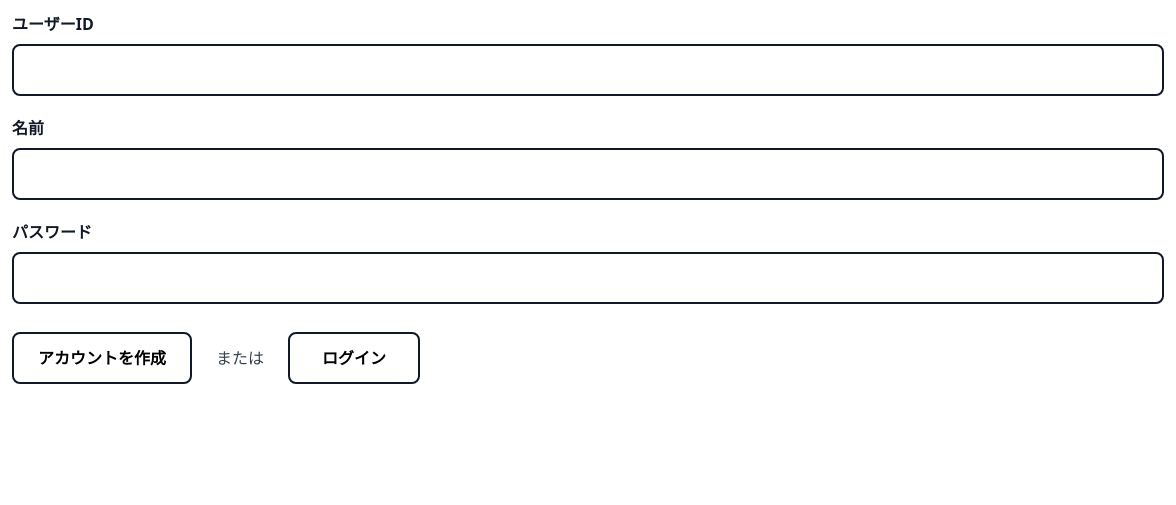
Test: CreateAccountForm › 登録後のログイン失敗時は作成済みであることとログイン画面への導線を表示する
The width and height of the screenshot is (1176, 505).
Type "ab" into the field labelled "ユーザーID" at (588, 70), box x1=12 y1=44 x2=1164 y2=96
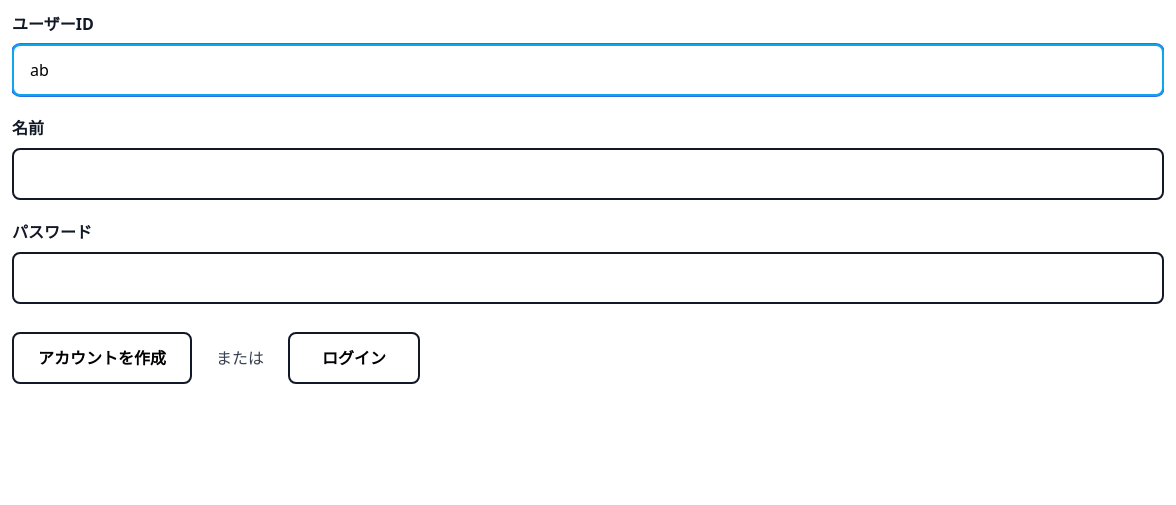
Type "アリス" into the field labelled "名前" at (588, 174), box x1=12 y1=148 x2=1164 y2=200
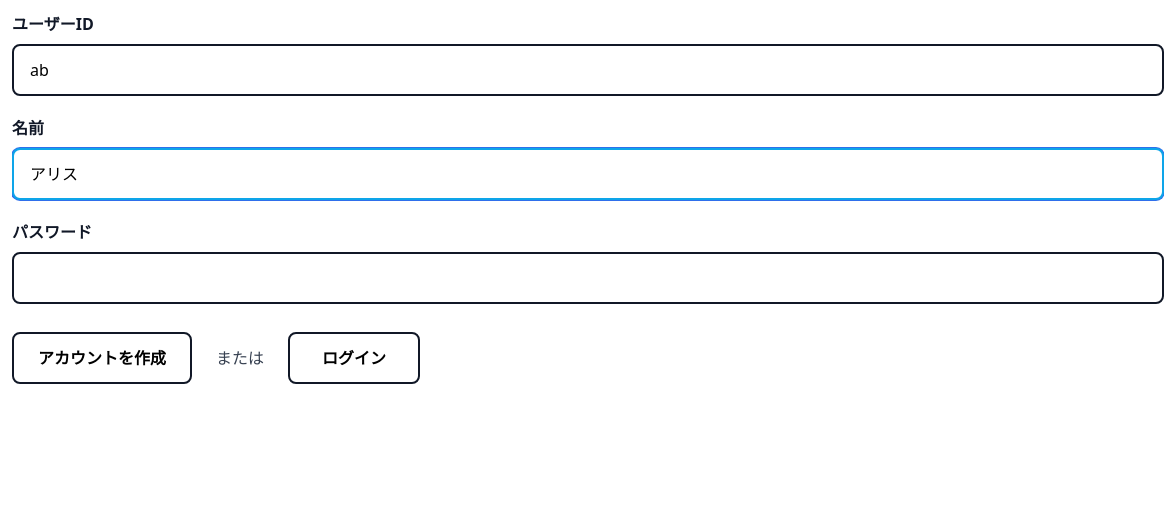
Type "secret-pw" into the password field labelled "パスワード" at (588, 278), box x1=12 y1=252 x2=1164 y2=304
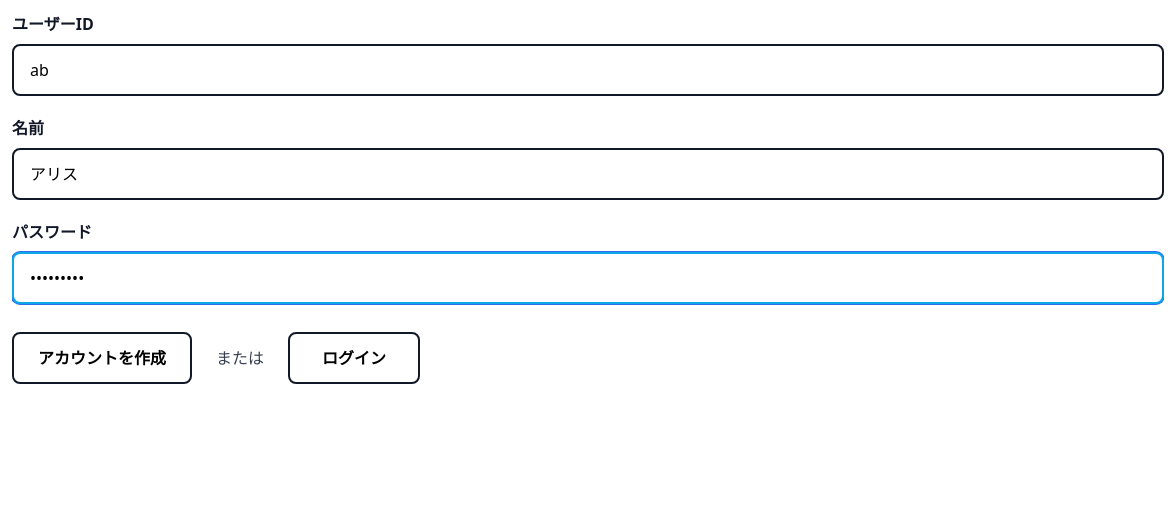
Click the button "アカウントを作成" at (102, 358), box x1=12 y1=332 x2=192 y2=384
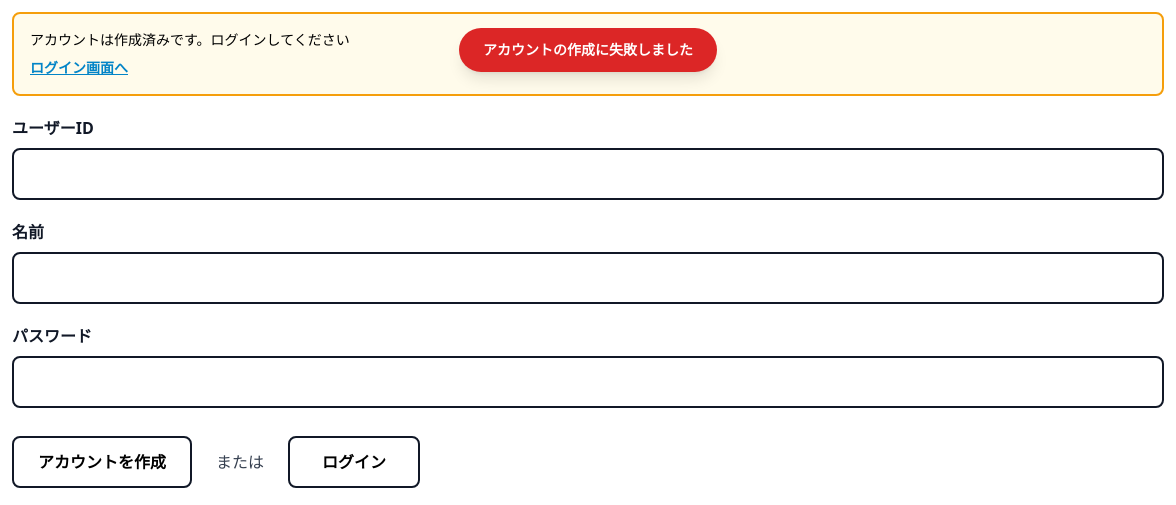
Result: the text "アカウントは作成済みです。ログインしてください" is shown at x1=30 y1=30 x2=350 y2=49
Result: the message reads "アカウントの作成に失敗しました" at x1=483 y1=40 x2=693 y2=59
